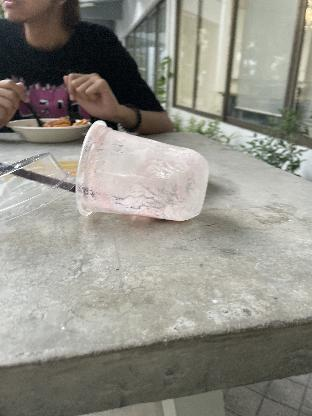Plastic Cup: (76, 114, 210, 224)
